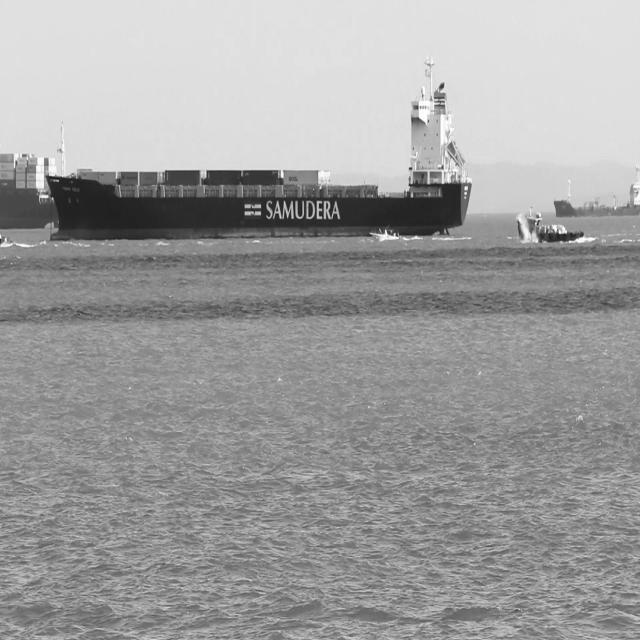ship: (49, 49, 476, 239), (0, 150, 59, 230), (554, 179, 640, 219), (517, 212, 586, 242), (368, 224, 402, 241), (0, 233, 13, 247)
